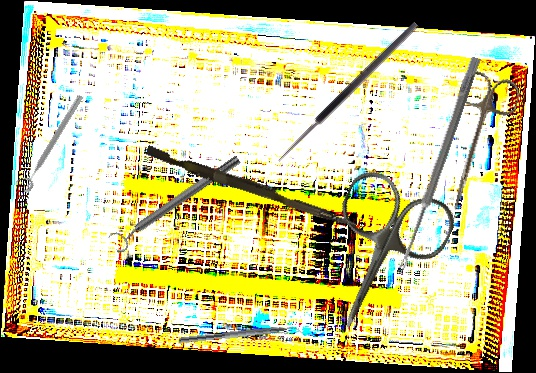Chopper: (177, 322, 308, 352)
Fixation Ring: (106, 149, 246, 256), (13, 89, 86, 195)
Hook Surgical: (274, 19, 427, 172)
Iris Scissors: (295, 163, 462, 352), (429, 68, 523, 219)
Pusher: (143, 145, 360, 229)
Surgical Spoon: (397, 55, 481, 272)
